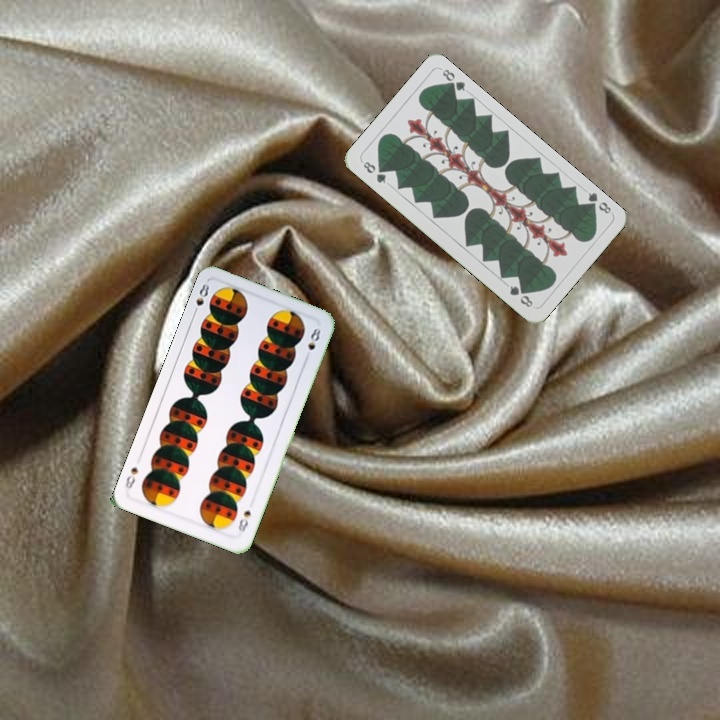G8: (582, 188, 614, 216), (359, 157, 389, 186)
S8: (189, 279, 212, 318), (234, 506, 253, 535)
